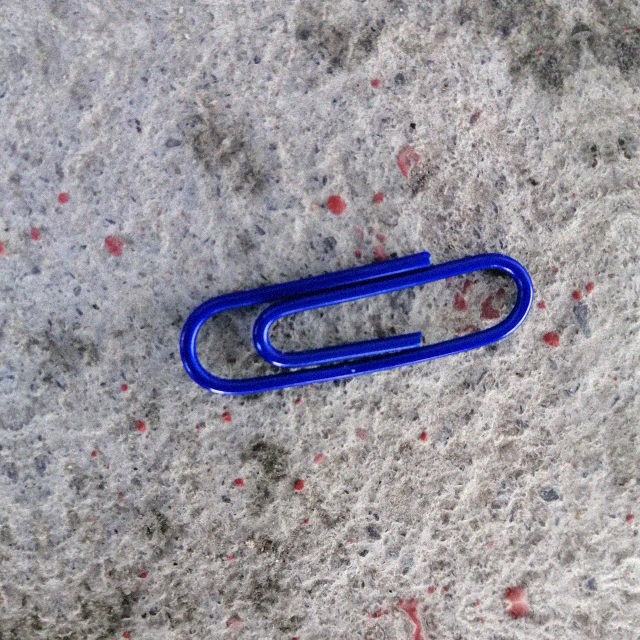pin: (177, 234, 537, 411)
